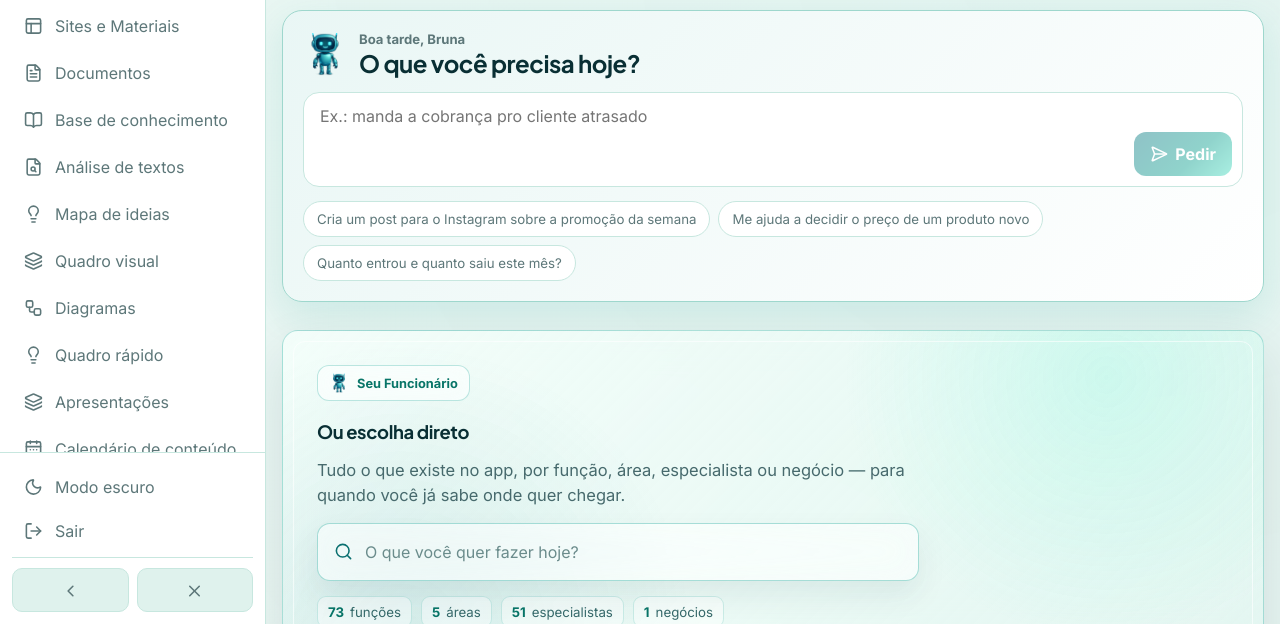
Test case: Mapa de ideias › gera um mapa por IA e transforma uma ideia em tarefa
(page scrolled)
Click the button "Mapa de ideias" at coordinates (132, 214), box [12,192,253,236]
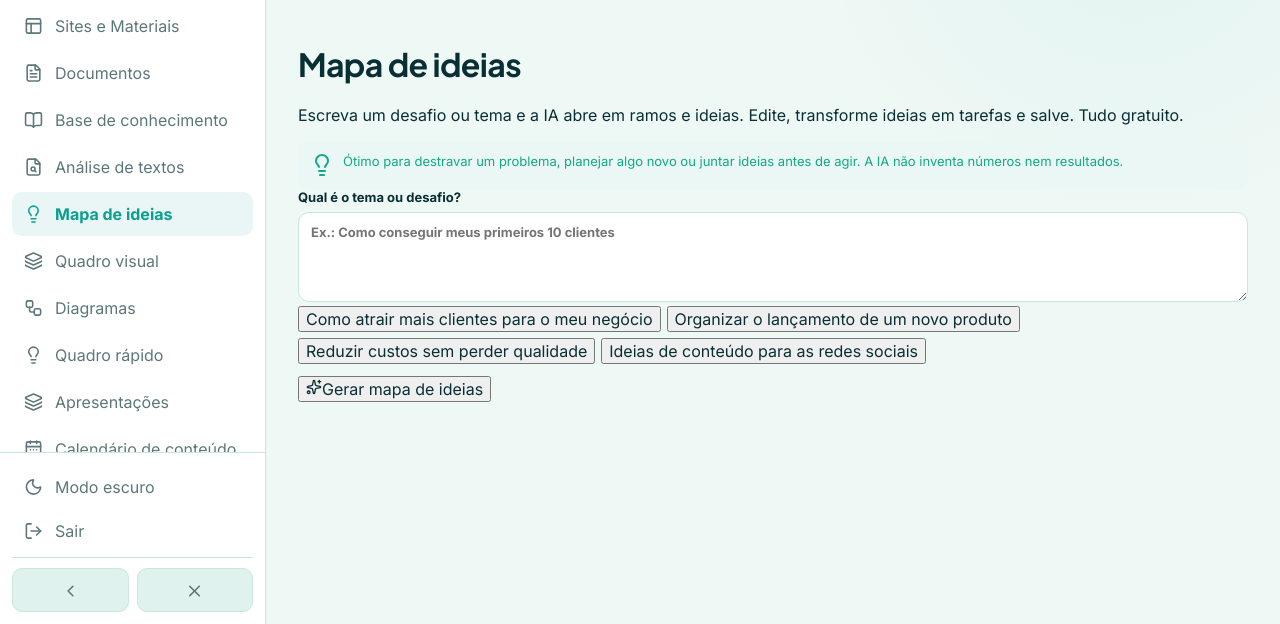
Expected: the heading "Mapa de ideias" is shown, [298,44,521,84]
Type "Como atrair clientes" into the text box with placeholder "Ex.: Como conseguir meus primeiros 10 clientes" at coordinates (773, 257), box [298,212,1248,302]
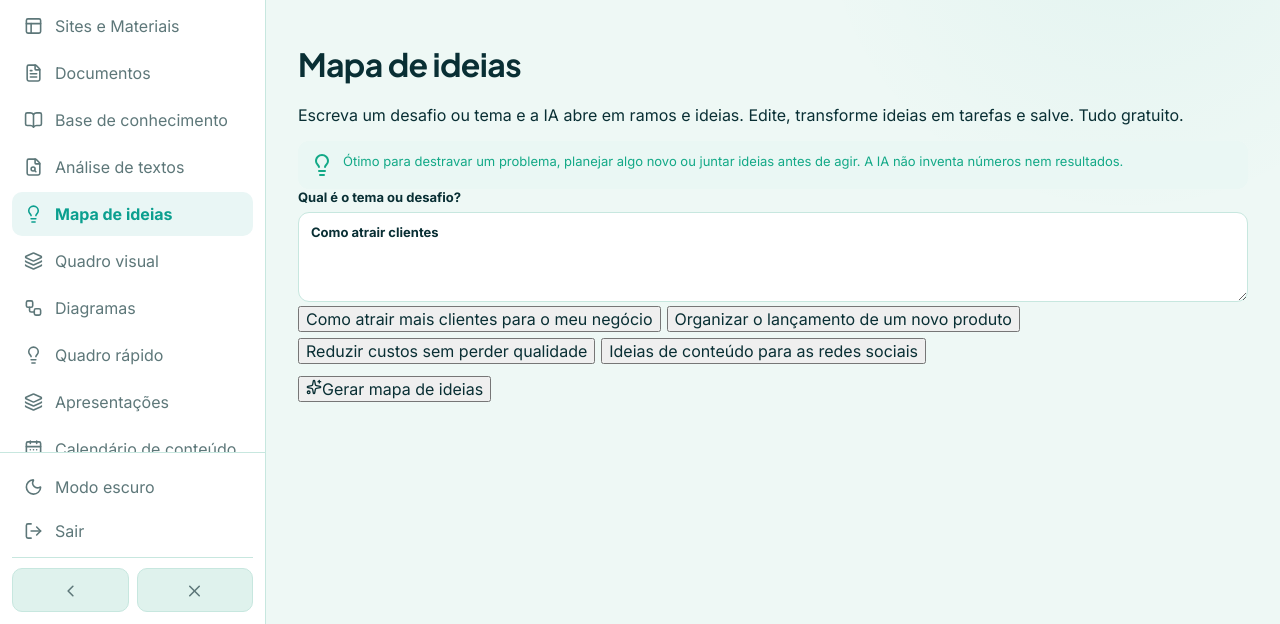
Click the button "Gerar mapa de ideias" at coordinates (395, 389), box [298,376,491,402]
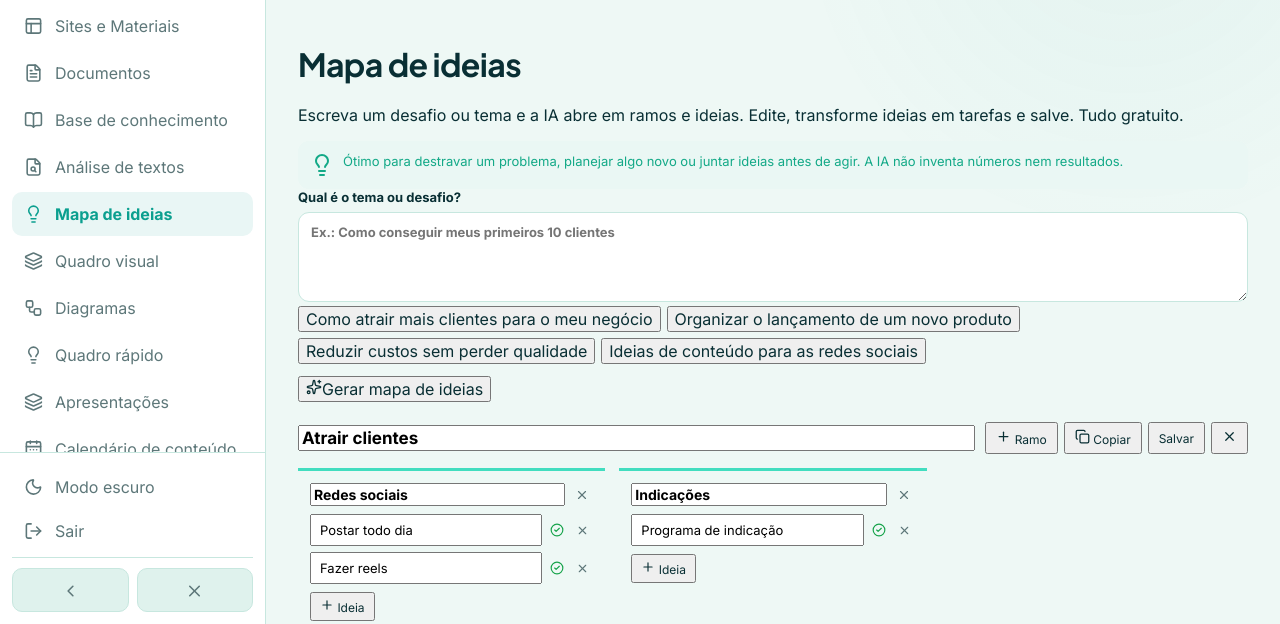
Expected: the field showing "Redes sociais" is shown, [310,483,565,506]
Expected: the field showing "Postar todo dia" is shown, [310,514,542,546]
Expected: the field showing "Programa de indicação" is shown, [631,514,864,546]
// Virar uma ideia em tarefa (primeira ideia do primeiro ramo).
Click the 1st button titled "Virar tarefa" at coordinates (557, 530), box [546,519,568,541]
(page scrolled)
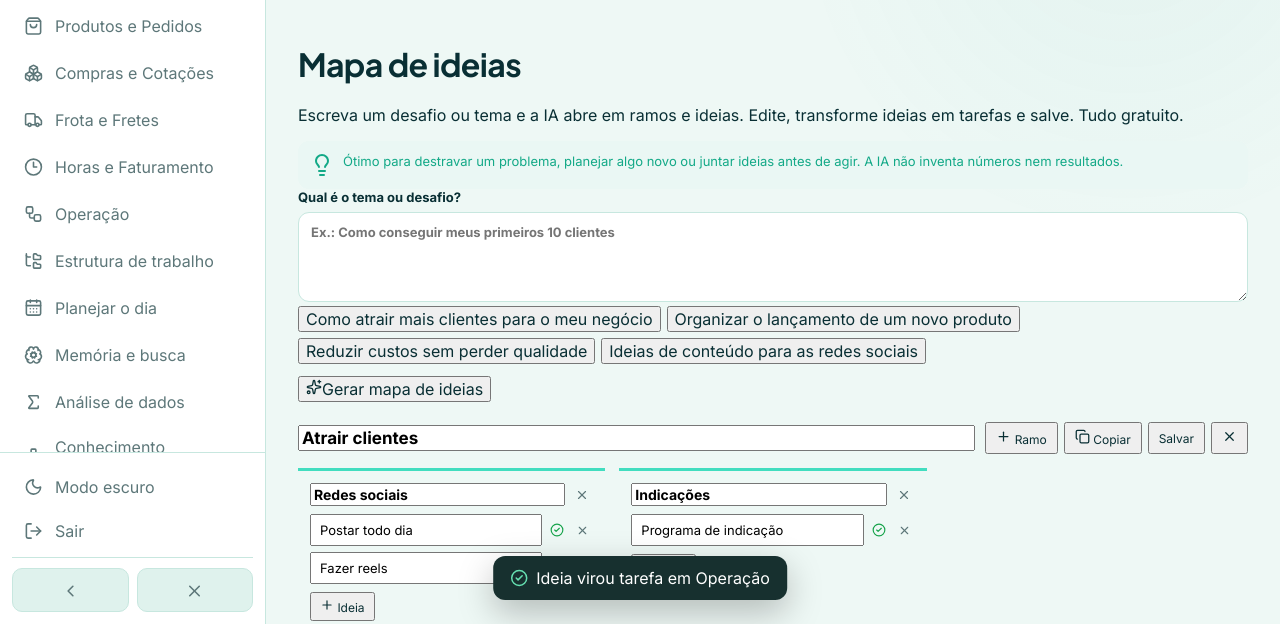
// Ir para Operação (item do menu lateral) e conferir a tarefa criada.
Click the button "Operação" at coordinates (132, 214), box [12,192,253,236]
(page scrolled)
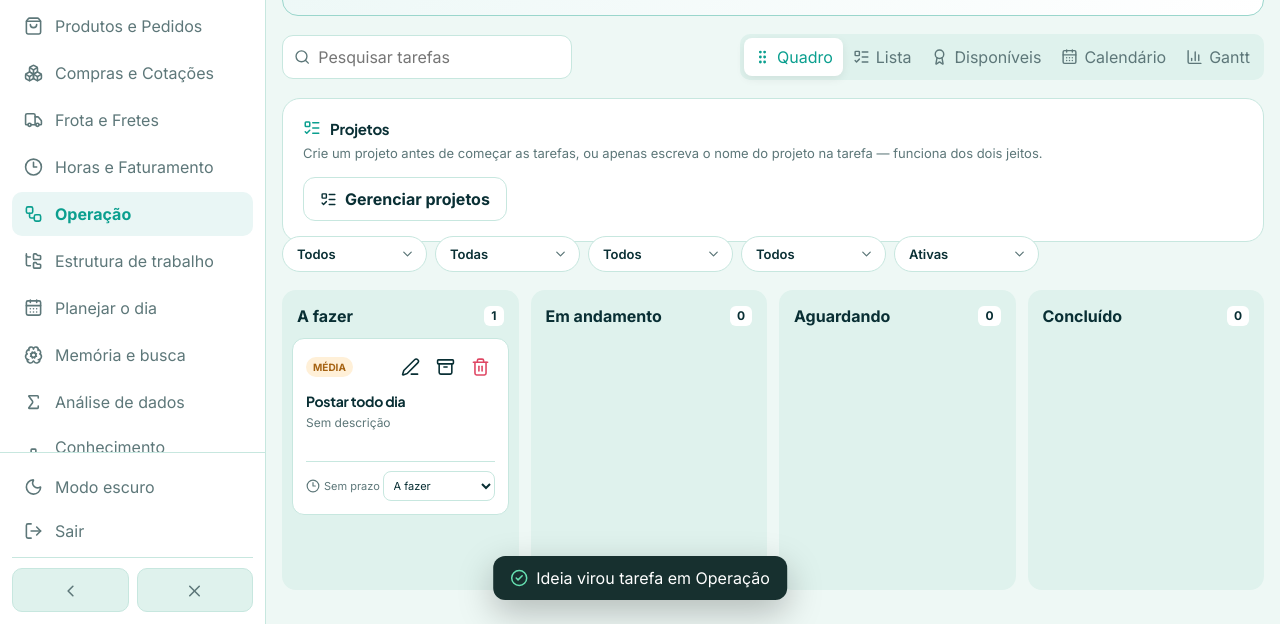
Expected: the heading "Postar todo dia" is shown, [306,392,405,410]
